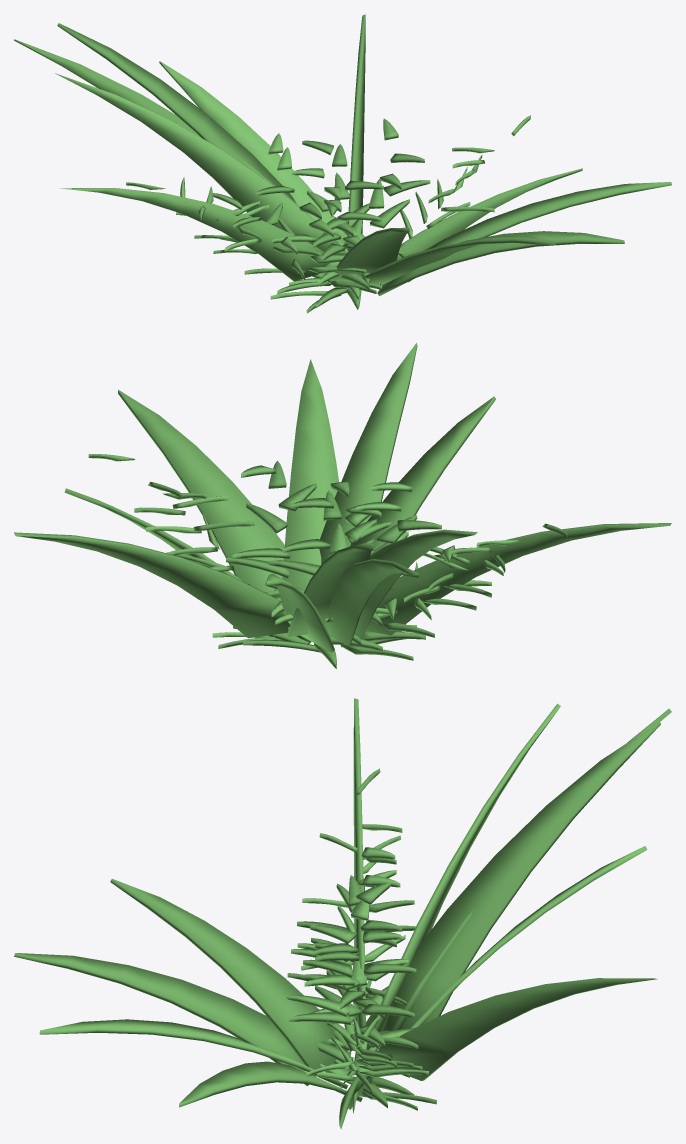
The model's file is fern_1.glb.
3 views of the same model, one above another, from view 1: azimuth 30°, elevation 25°; view 2: azimuth 150°, elevation 25°; view 3: azimuth 270°, elevation 25° (orthographic). The views are drawn at different scales.
Visible parts, largest first — view 1: fern; view 2: fern; view 3: fern.
Boxes of the visible parts, x1,y1,x2,y2 form: fern: [14, 14, 671, 313]; fern: [14, 343, 671, 668]; fern: [14, 698, 671, 1129].
Bounding box in the file's own units: 0.976 × 0.376 × 0.8524.
